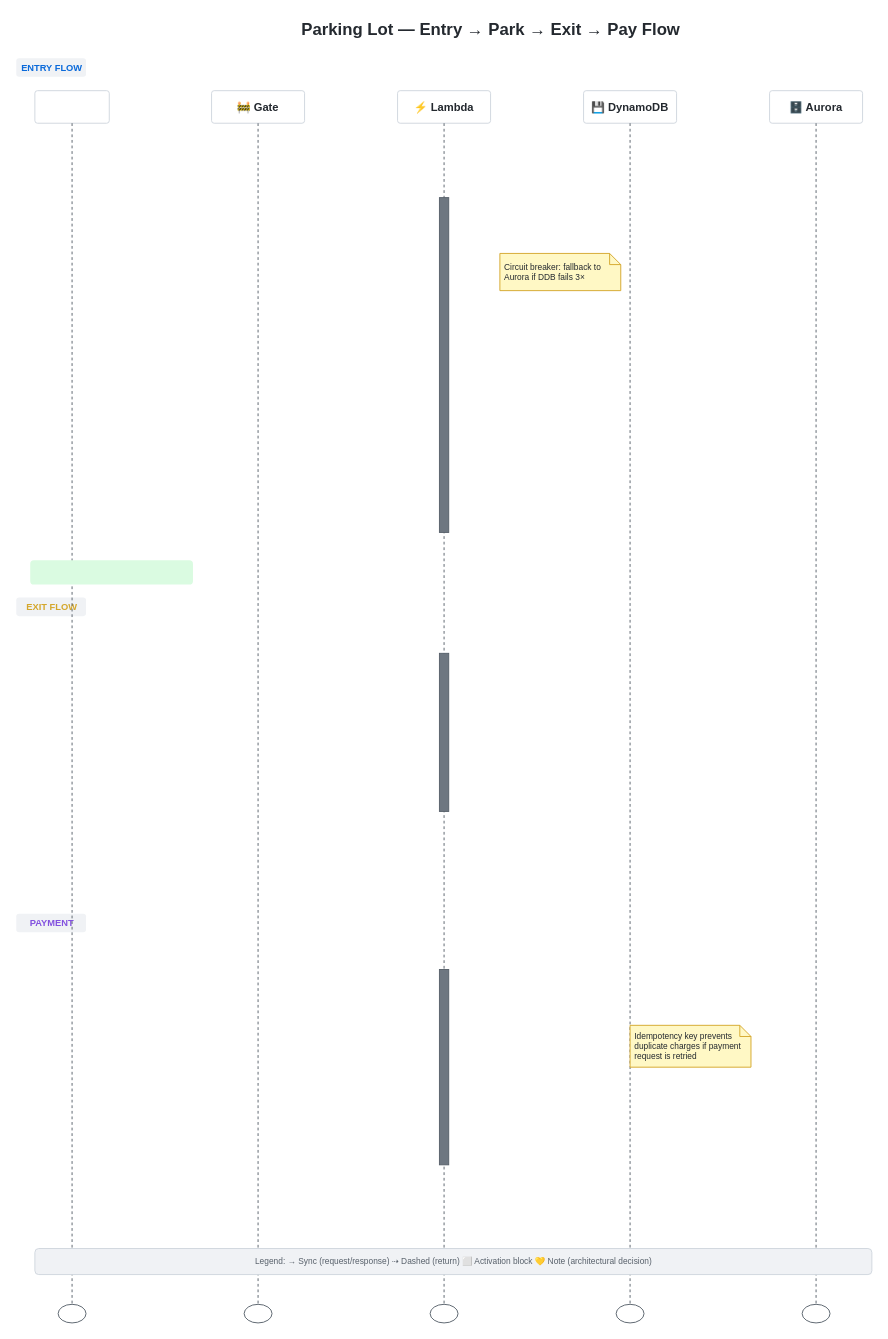
Some shapes in this 888 by 1339 pixel diagram are drawn without their labels. Here are the shapes that lost their labels. From the top down, the centre of each, then its label:
At (71,106): "🚗 Driver".
At (111,572): "🚗 Parks at spot A12 · parked (2h)".
